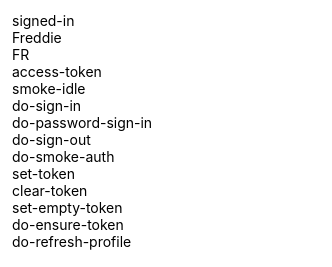
Scenario: SessionProvider › signs out locally even when remote logout never completes
Expected: the text "signed-in" is shown, [12, 12, 74, 29]
Click the text "do-sign-out" at (51,140), box [12, 131, 91, 148]
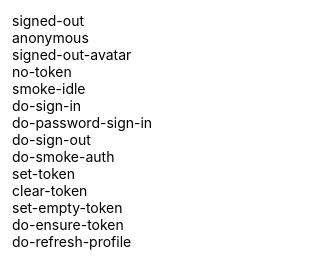
Result: the text "signed-out" is shown at [12, 12, 84, 29]
Result: the text "no-token" is shown at [12, 63, 72, 80]
